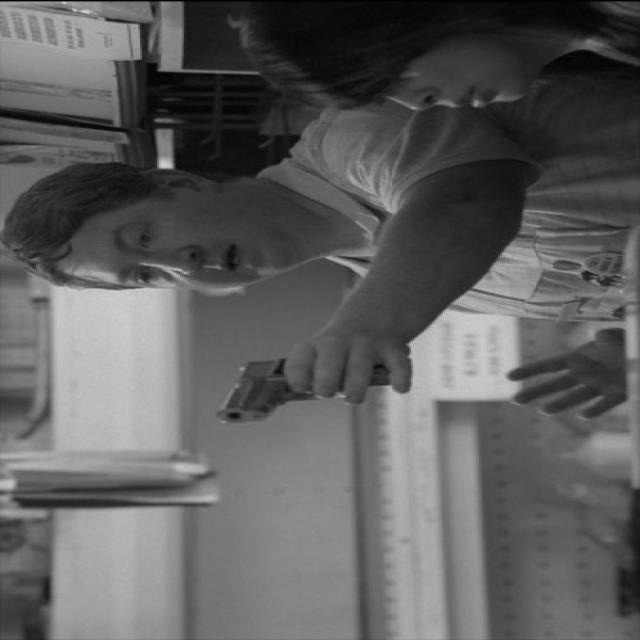weapons: (199, 348, 420, 432)
